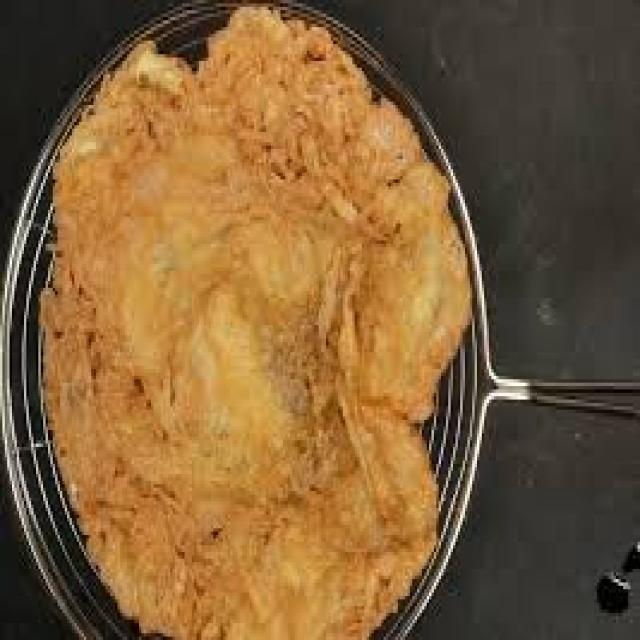telur dadar: (41, 0, 475, 640)
